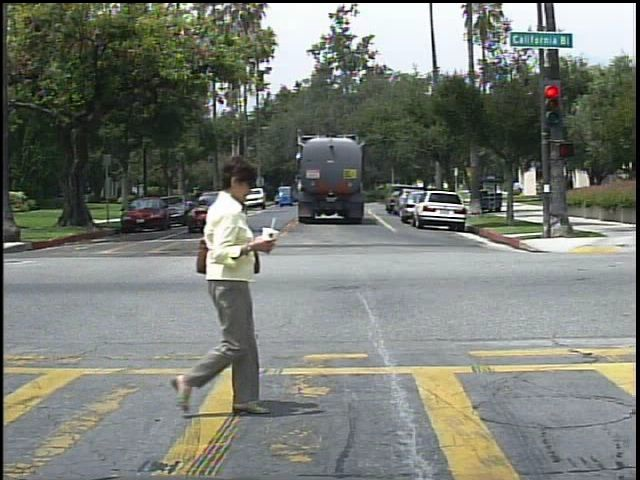person: (158, 152, 278, 424), (515, 181, 529, 200)
